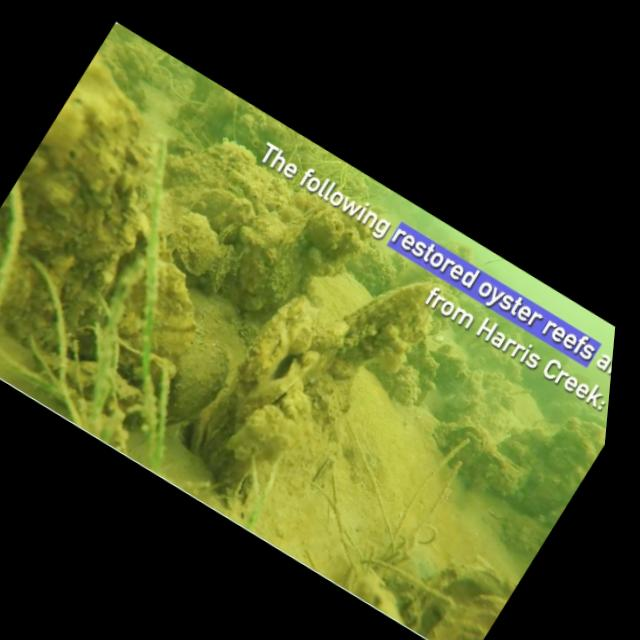Oyster-Closed: (260, 195, 326, 276), (192, 234, 248, 299)
Oyster-Indeterminate: (0, 48, 216, 362), (313, 249, 456, 412), (485, 385, 609, 539), (92, 233, 226, 371), (29, 329, 169, 440), (52, 307, 189, 412), (137, 320, 246, 444), (210, 394, 308, 497), (154, 204, 233, 287), (457, 436, 529, 512), (206, 158, 275, 221), (219, 241, 279, 301), (183, 172, 240, 233), (223, 102, 276, 156), (94, 45, 143, 89), (112, 43, 159, 85), (236, 288, 274, 325)
Oyster-Open: (184, 276, 351, 484), (394, 529, 526, 640), (228, 363, 309, 455), (428, 414, 497, 483), (410, 332, 473, 386), (135, 57, 188, 100), (158, 126, 198, 164), (213, 212, 248, 252)
